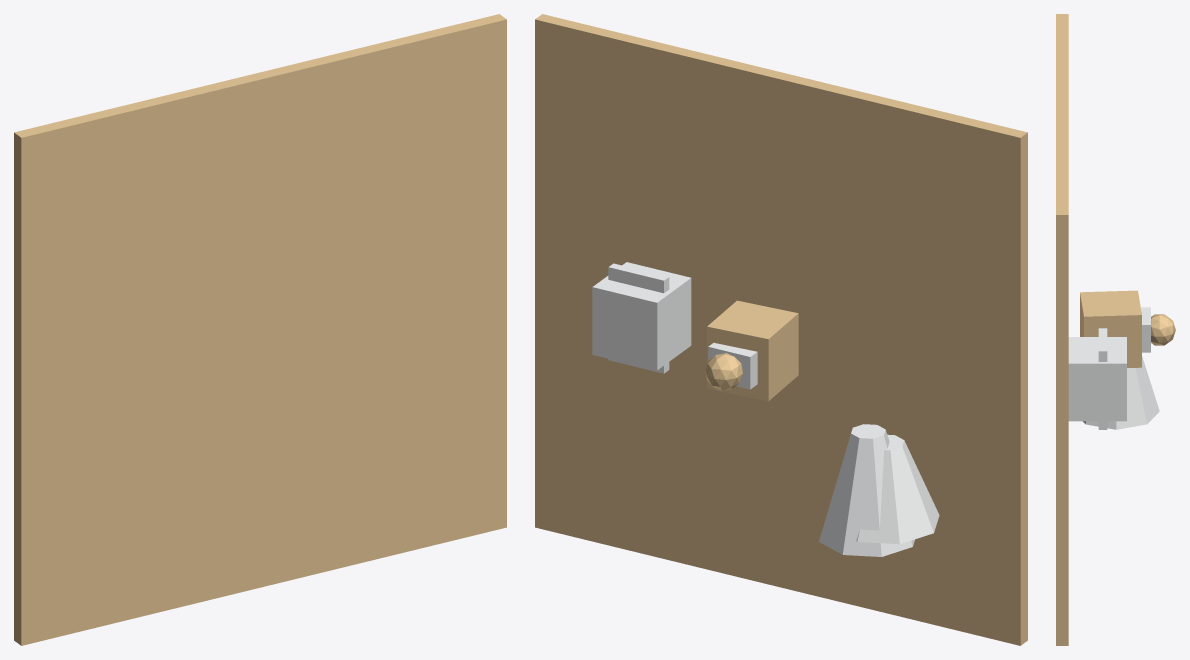
Rendered from solitaire-suite-kit.glb.
3 views of the same model, side by side, from view 1: azimuth 30°, elevation 25°; view 2: azimuth 150°, elevation 25°; view 3: azimuth 270°, elevation 25° (orthographic). The views are drawn at different scales.
Parts seen in each view (by area): view 1: ENVIRONMENT_GROUND; view 2: ENVIRONMENT_GROUND, OBSTACLE, PROFILE_ENVIRONMENT_DETAIL, PLAYER_BODY, ENVIRONMENT_LANDMARK, PROFILE_OBSTACLE_DETAIL, PROFILE_PLAYER_HEAD, PROFILE_PLAYER_DETAIL; view 3: ENVIRONMENT_GROUND, OBSTACLE, PLAYER_BODY, PROFILE_ENVIRONMENT_DETAIL, PROFILE_PLAYER_HEAD, PROFILE_OBSTACLE_DETAIL, PROFILE_PLAYER_DETAIL.
Boxes of the visible parts, x1=… form: ENVIRONMENT_GROUND: x1=14, y1=14, x2=506, y2=645; ENVIRONMENT_GROUND: x1=535, y1=14, x2=1027, y2=645; OBSTACLE: x1=592, y1=262, x2=691, y2=370; PROFILE_ENVIRONMENT_DETAIL: x1=819, y1=424, x2=914, y2=556; PLAYER_BODY: x1=707, y1=300, x2=798, y2=401; ENVIRONMENT_LANDMARK: x1=856, y1=434, x2=939, y2=544; PROFILE_OBSTACLE_DETAIL: x1=608, y1=263, x2=669, y2=373; PROFILE_PLAYER_HEAD: x1=705, y1=353, x2=742, y2=390; PROFILE_PLAYER_DETAIL: x1=708, y1=343, x2=757, y2=389; ENVIRONMENT_GROUND: x1=1056, y1=14, x2=1068, y2=645; OBSTACLE: x1=1068, y1=337, x2=1126, y2=421; PLAYER_BODY: x1=1080, y1=290, x2=1141, y2=367; PROFILE_ENVIRONMENT_DETAIL: x1=1083, y1=356, x2=1159, y2=429; PROFILE_PLAYER_HEAD: x1=1151, y1=314, x2=1175, y2=345; PROFILE_OBSTACLE_DETAIL: x1=1098, y1=328, x2=1107, y2=429; PROFILE_PLAYER_DETAIL: x1=1140, y1=307, x2=1150, y2=352.
Size of the model in its own units: 9 by 9 by 2.27.
